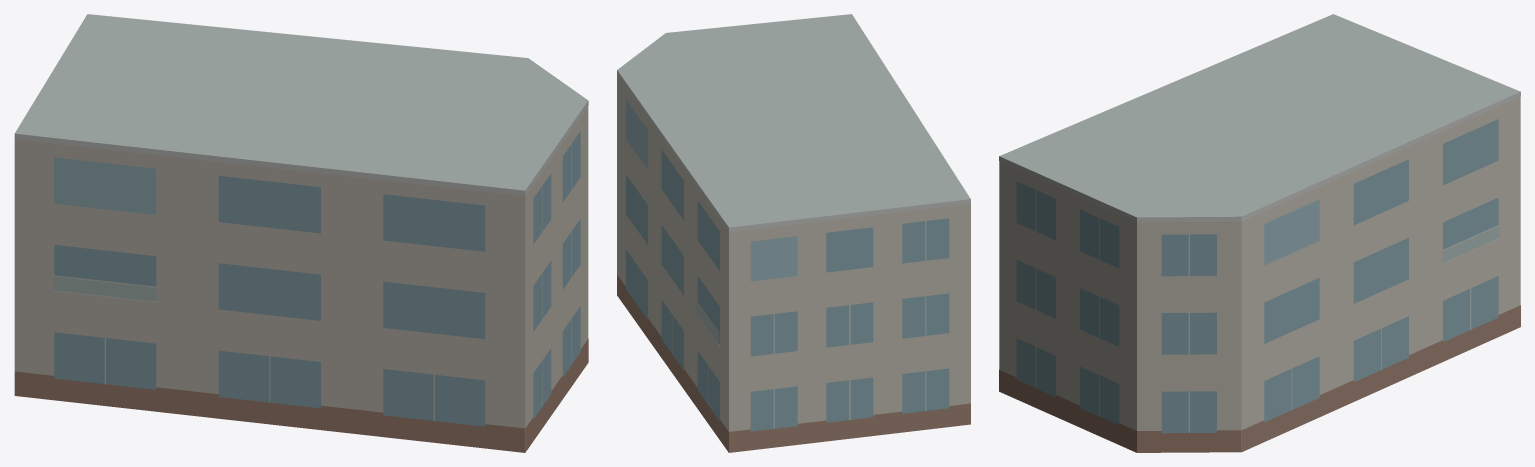
Rendered from survey-upis-32947058.glb.
3 renders of one model, left to right at view 1: azimuth 30°, elevation 25°; view 2: azimuth 150°, elevation 25°; view 3: azimuth 270°, elevation 25°, orthographic. The views are drawn at different scales.
Parts seen in each view (by area): view 1: survey-upis-32947058.tmp; view 2: survey-upis-32947058.tmp; view 3: survey-upis-32947058.tmp.
Part boxes in pixels (<box>): survey-upis-32947058.tmp: <box>14,14,588,452</box>; survey-upis-32947058.tmp: <box>617,14,970,452</box>; survey-upis-32947058.tmp: <box>999,14,1520,452</box>.
Bounding box in the file's own units: 21.6 × 11.65 × 23.4.
